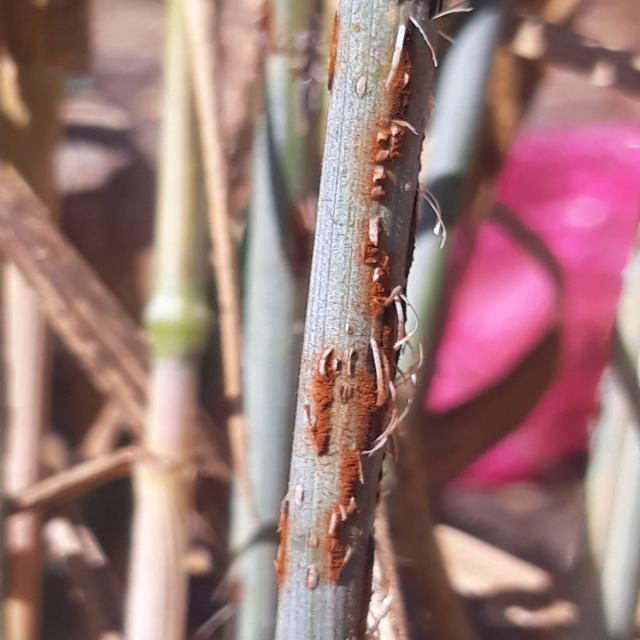black_stem_rust: (250, 0, 476, 640)
